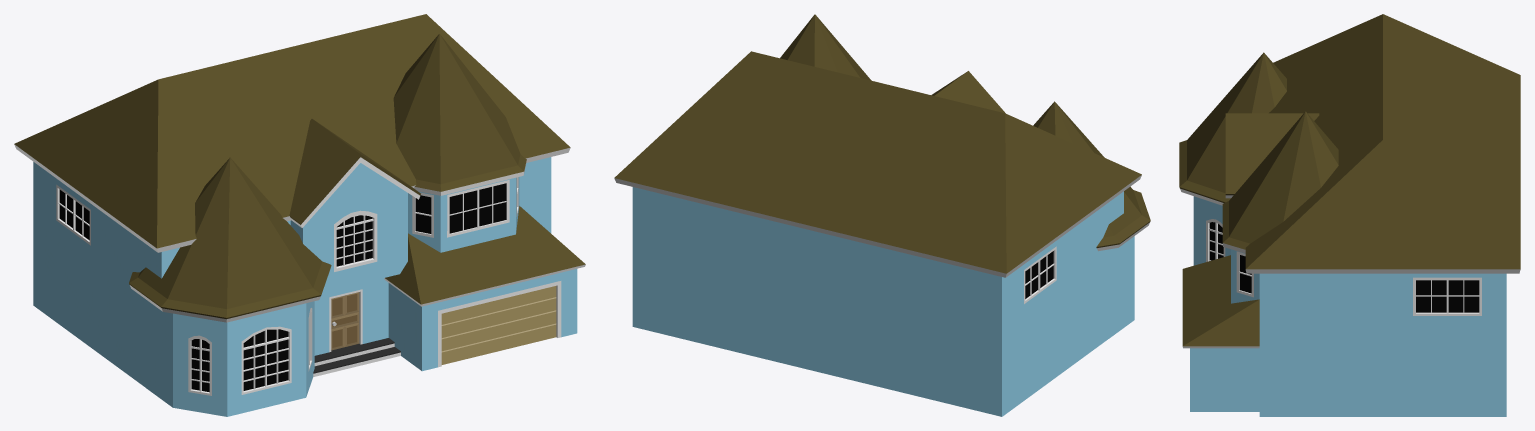
Rendered from House-24.fbx.
3 views of the same model, side by side, from view 1: azimuth 30°, elevation 25°; view 2: azimuth 150°, elevation 25°; view 3: azimuth 270°, elevation 25° (orthographic). The views are drawn at different scales.
Visible parts, largest first — view 1: House-01; view 2: House-01; view 3: House-01.
Part boxes in pixels (x1,y1,x2,y2): House-01: (14,14,585,416); House-01: (614,14,1150,416); House-01: (1179,14,1520,416).
Size of what is drawn, in the model's own units: 19.01 by 11.99 by 14.02.
